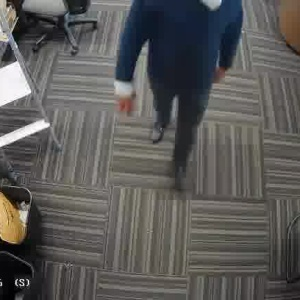person: (136, 0, 240, 189)
